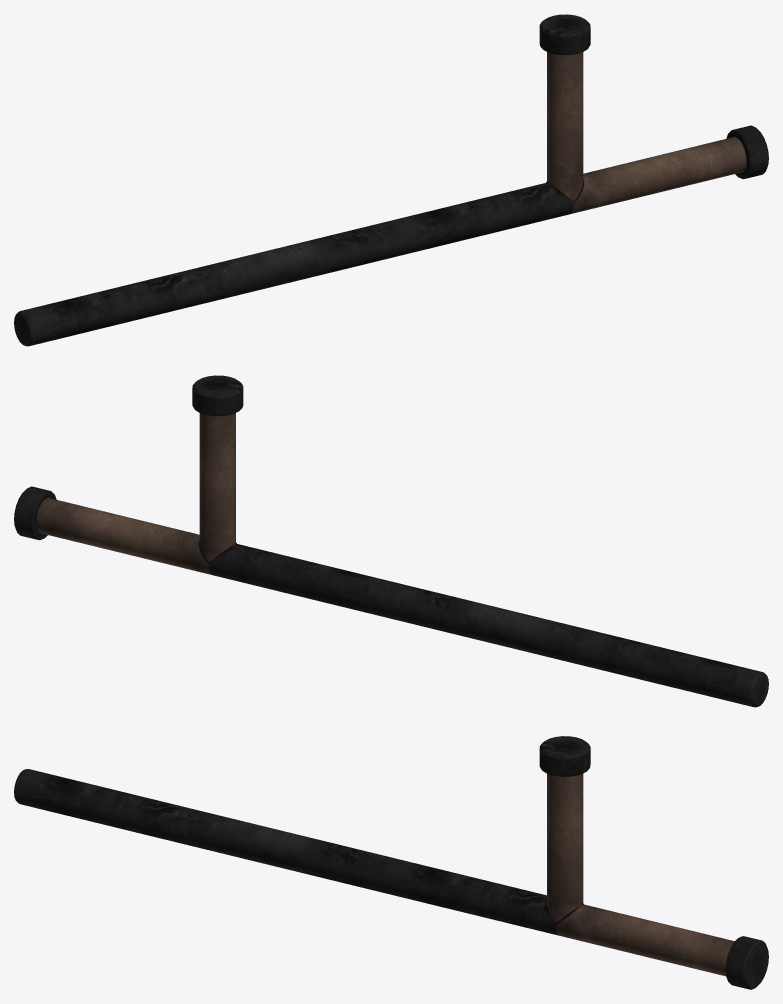
The model's file is Baton.fbx.
The picture shows the model from 3 angles, top to bottom: view 1: azimuth 30°, elevation 25°; view 2: azimuth 150°, elevation 25°; view 3: azimuth 330°, elevation 25°; orthographic projection.
Parts seen in each view (by area): view 1: baton; view 2: baton; view 3: baton.
Part boxes in pixels (box(x1,y1,x2,y2)): baton: box(14, 14, 768, 346); baton: box(14, 375, 768, 707); baton: box(14, 736, 768, 989).
Bounding box in the file's own units: 58 × 14.74 × 3.51.
1 material, 1 textured.
